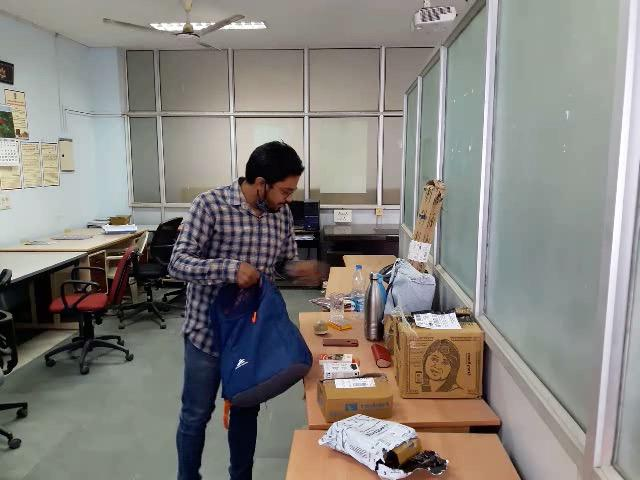shoplifting: (111, 218, 477, 414)
